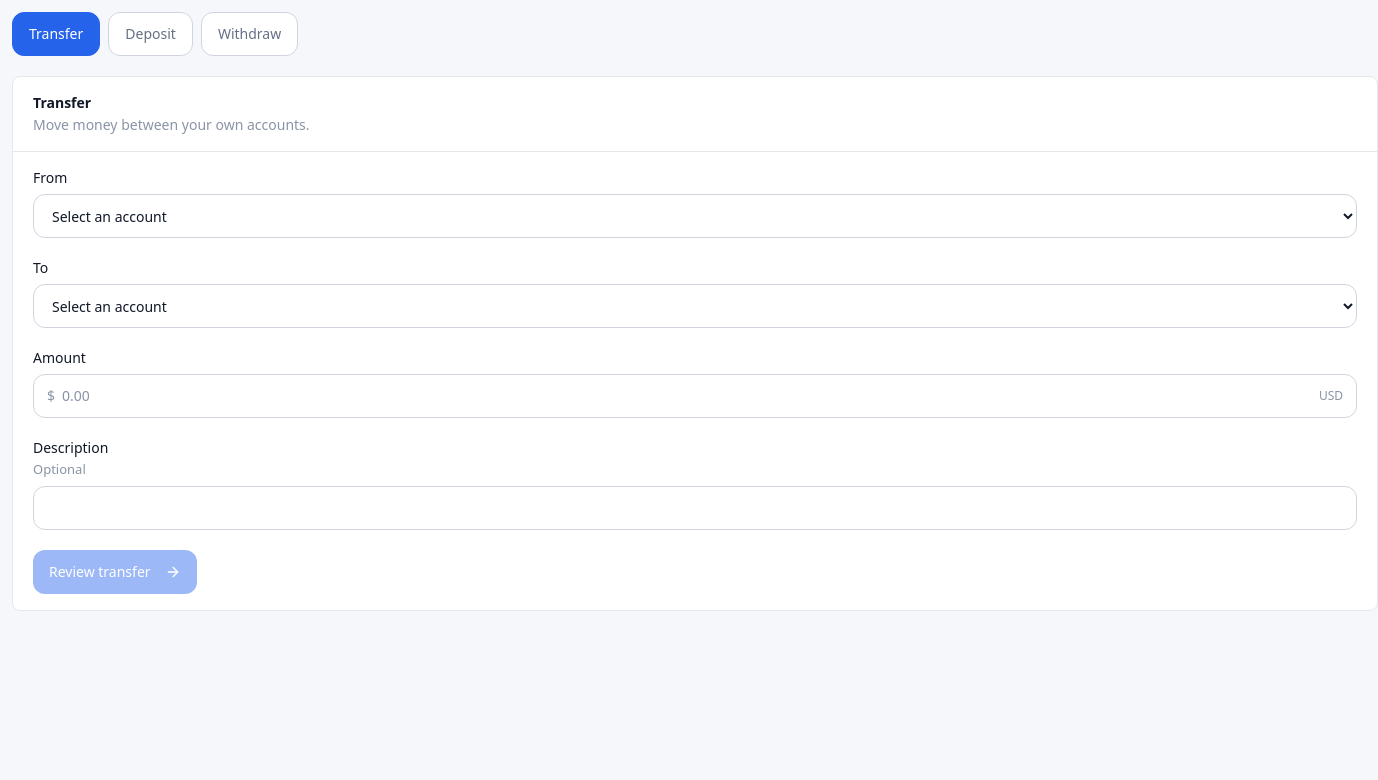
Test case: the review step › shows the amount and masked accounts, never a full number
Select "Checking ••••2024 — $11,131.99" in the dropdown labelled "From": [695, 216] box [33, 194, 1357, 238]
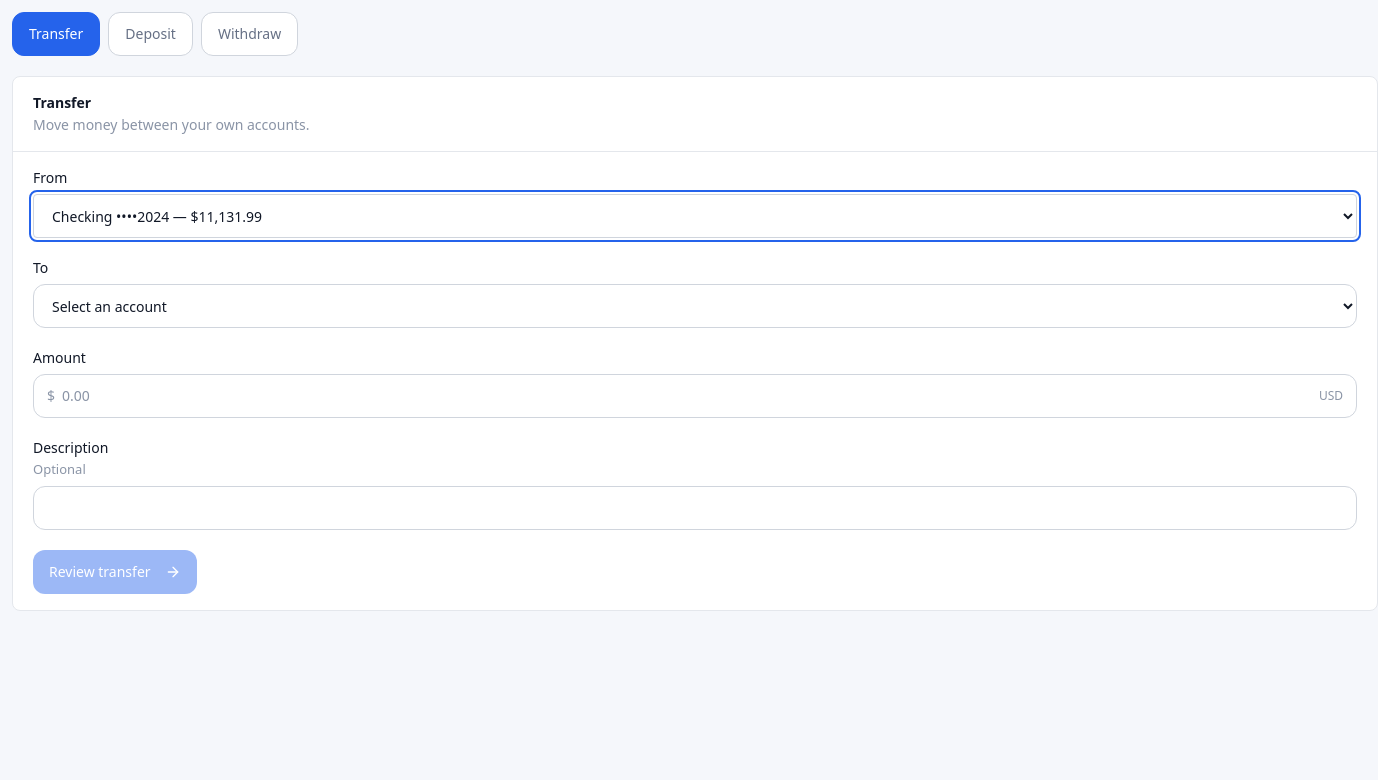
Select "Savings ••••9716 — $16,714.18" in the dropdown labelled "To": [695, 306] box [33, 284, 1357, 328]
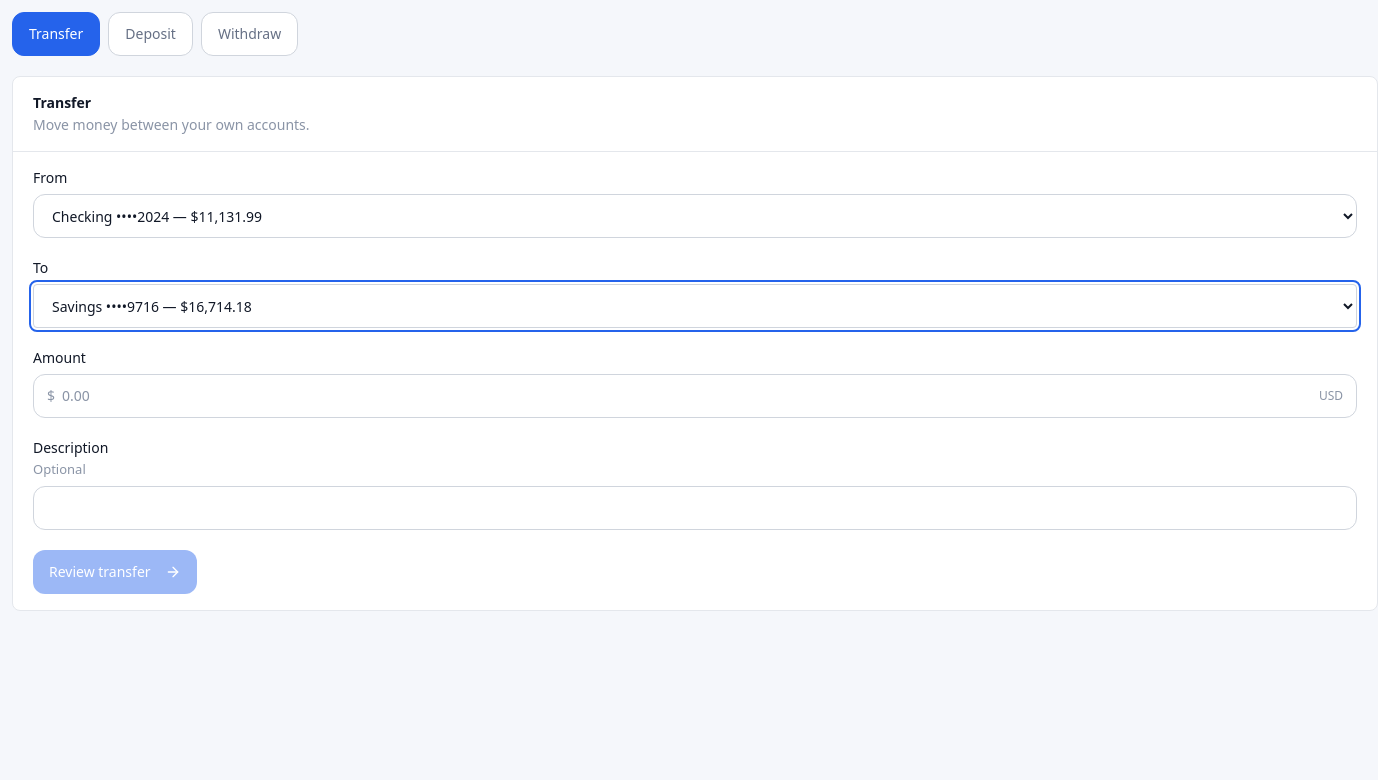
In the field labelled "Amount": [695, 396] box [33, 374, 1357, 418], type "25.00"
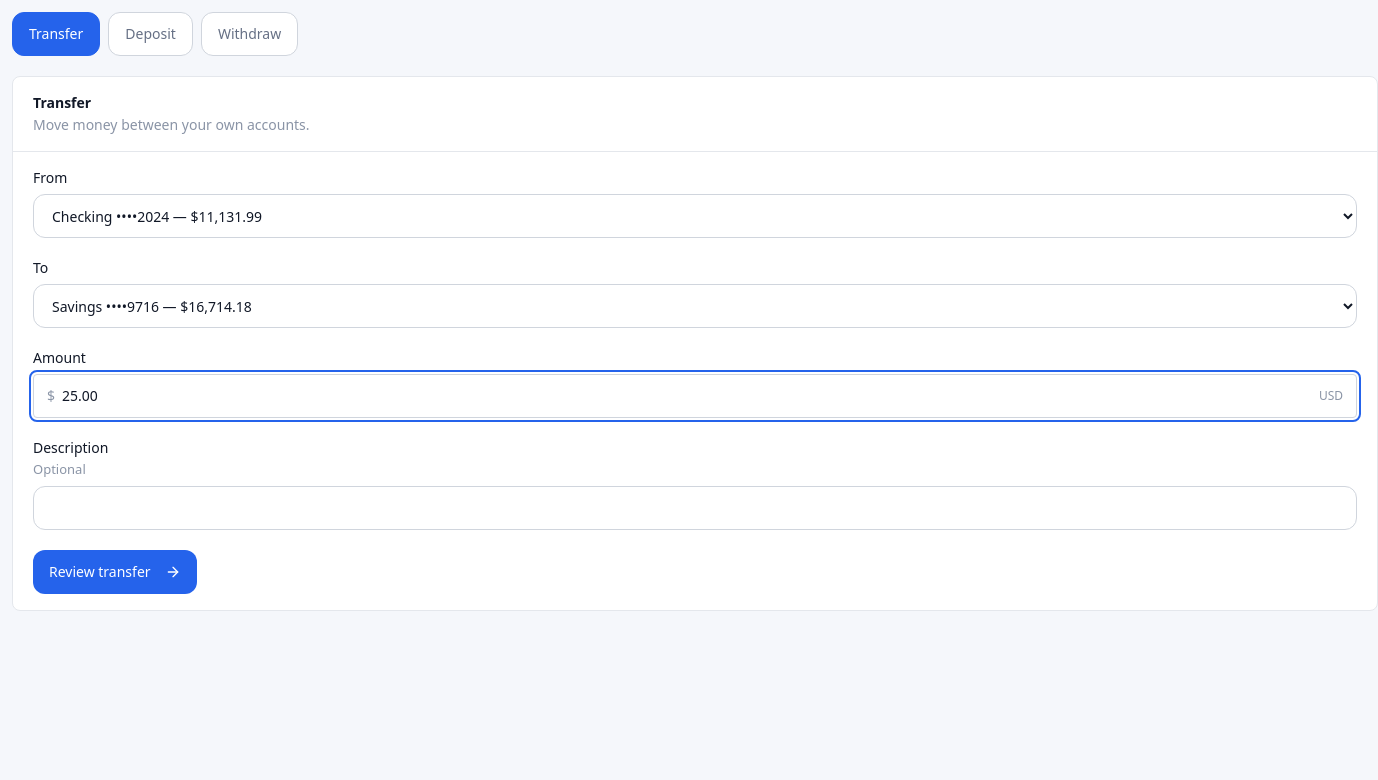
Click the button "Review transfer": [115, 572] box [33, 550, 197, 594]
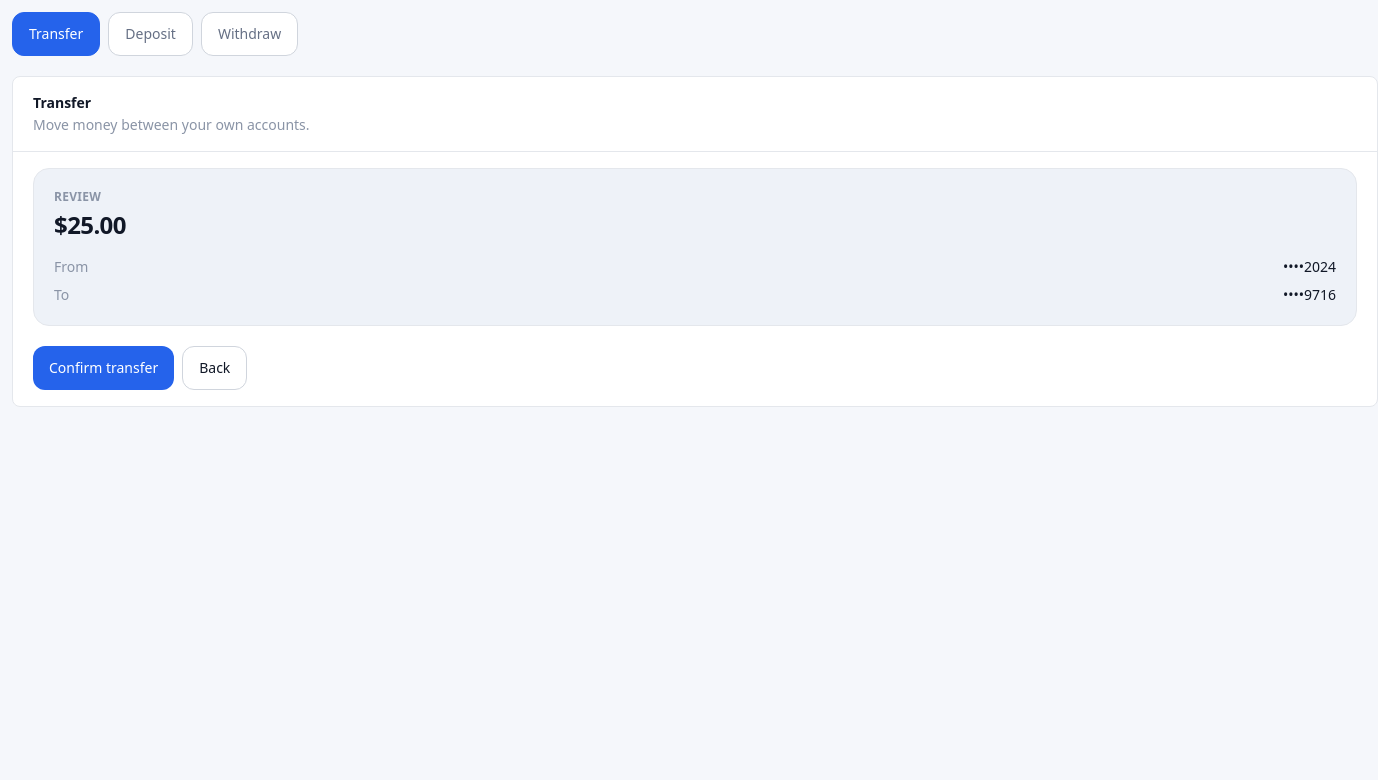
Check: the element with test id "review-panel" shows "$25.00", box [54, 208, 126, 241]
Check: the element with test id "review-panel" shows "••••2024", box [1283, 257, 1336, 276]
Check: the element with test id "review-panel" shows "••••9716", box [1283, 285, 1336, 304]
